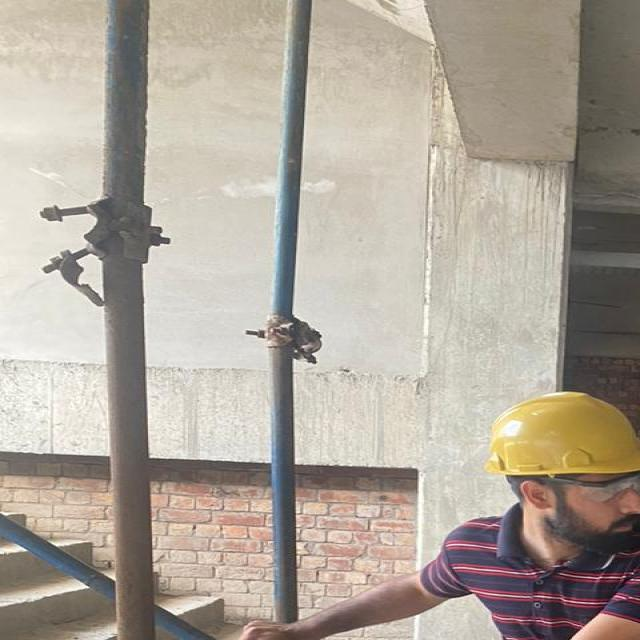Goggles: (510, 471, 640, 505)
Helmet: (476, 389, 640, 479)
